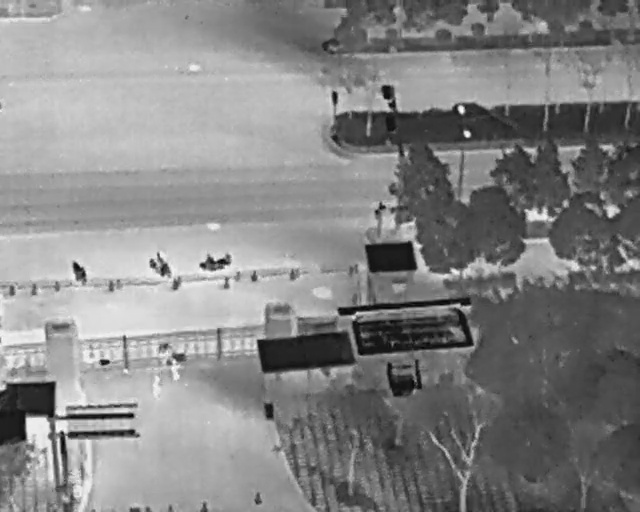Bicycle: (145, 250, 177, 283), (66, 256, 92, 288), (197, 252, 232, 272)
Person: (169, 360, 182, 382), (151, 376, 162, 398), (159, 347, 169, 366)
